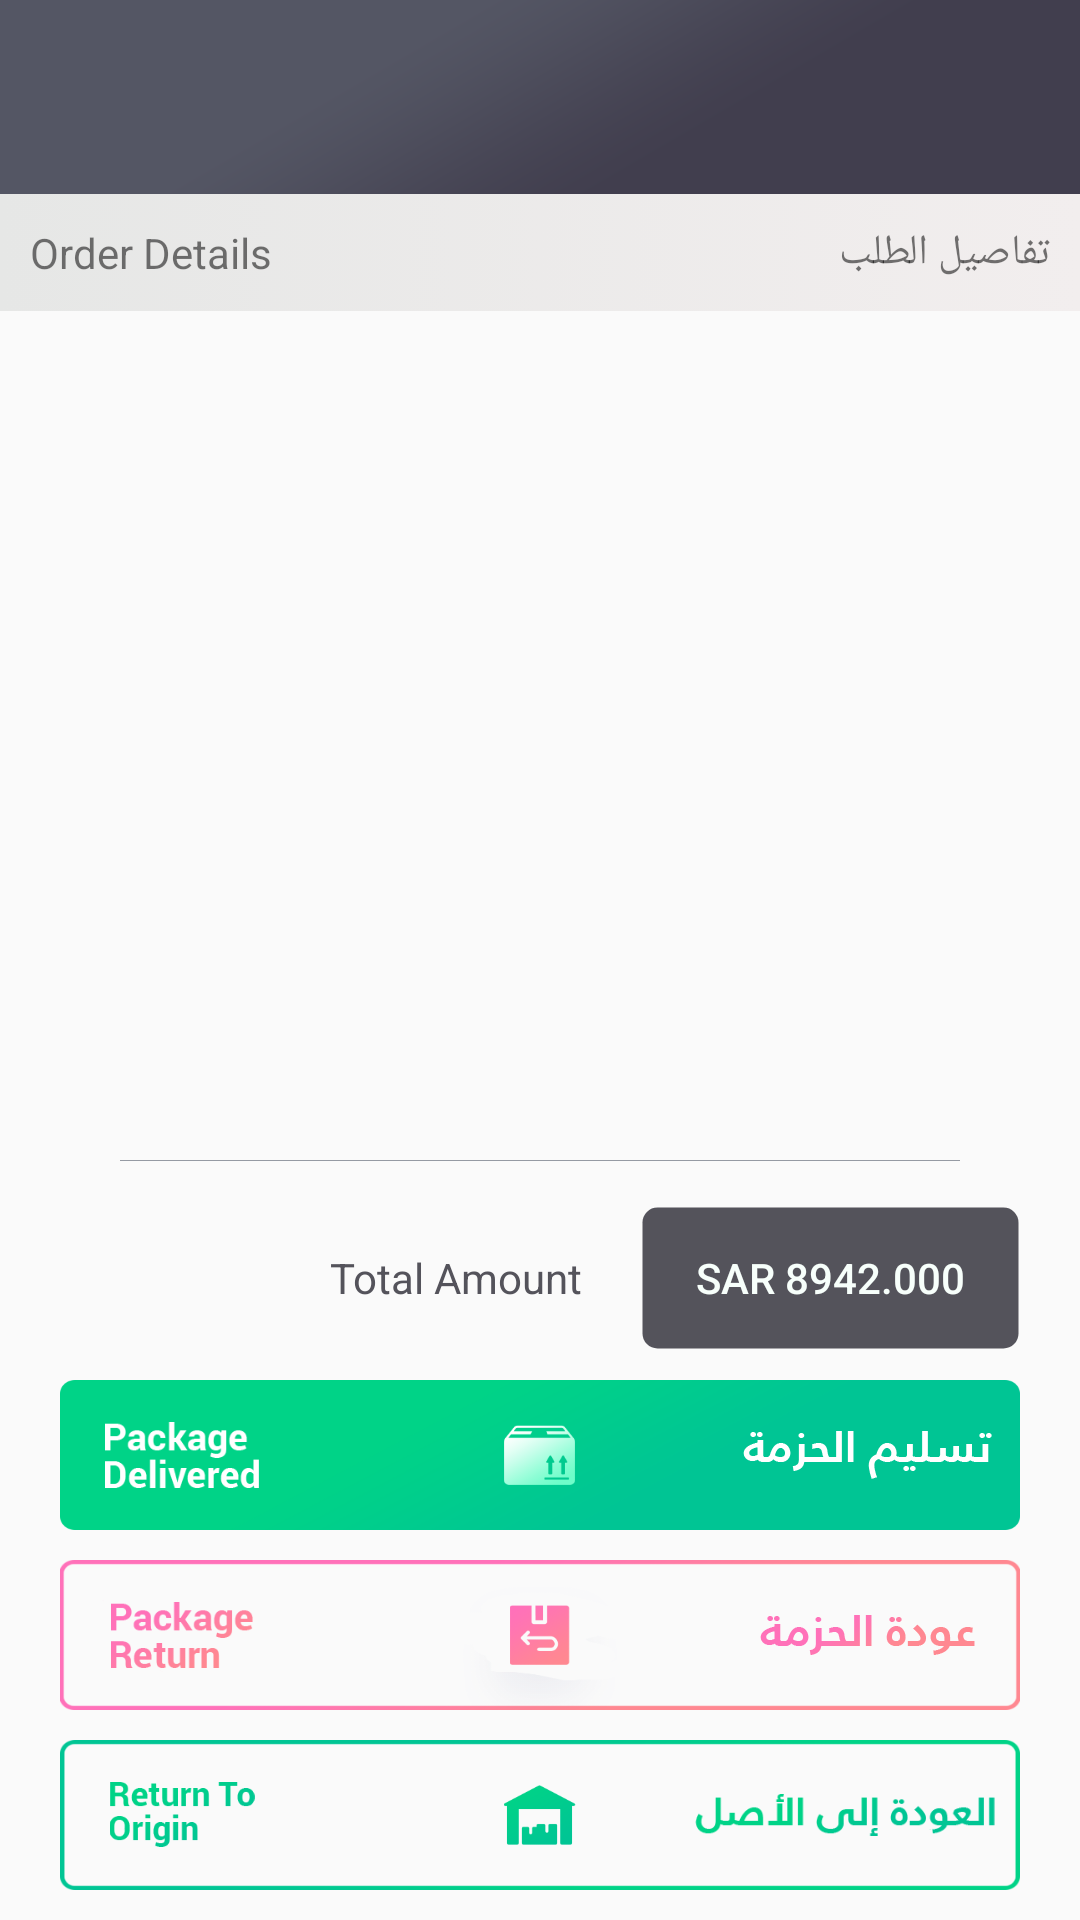

Icon bounding boxes for this 1080 x 1920 phone screenshot, format (x1, y1, x2, y2):
package return: (510, 1605, 570, 1665)
return to origin: (504, 1785, 576, 1845)
